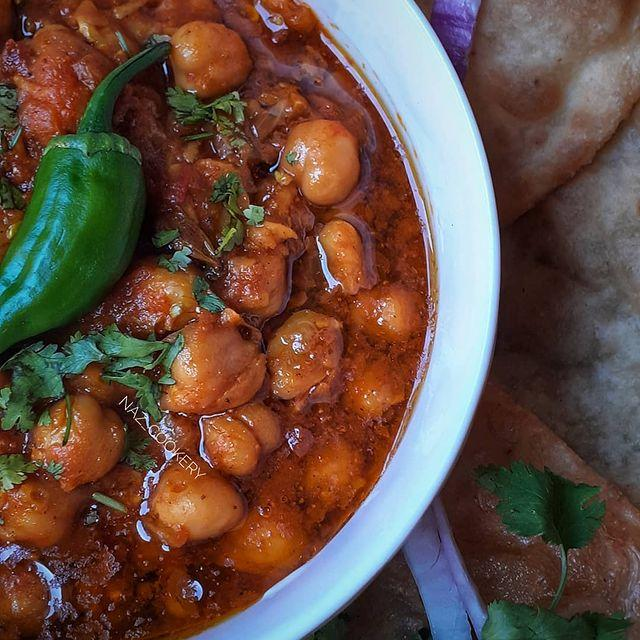Chole: (95, 28, 422, 588)
